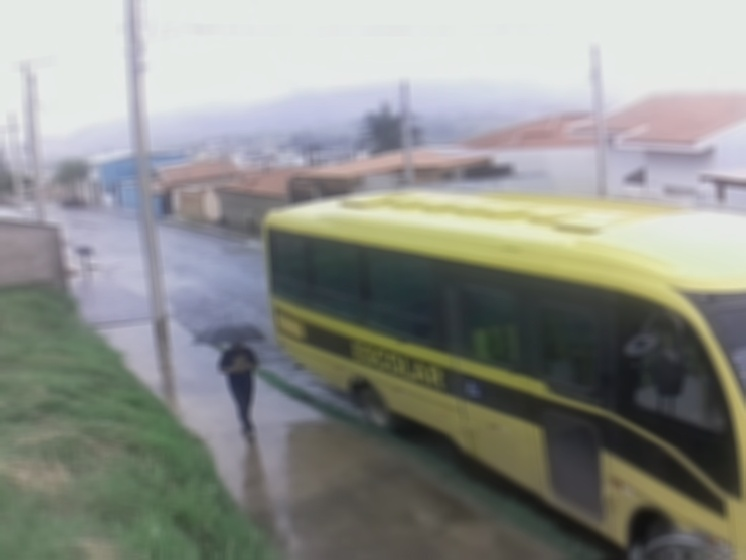person: (217, 340, 261, 438)
